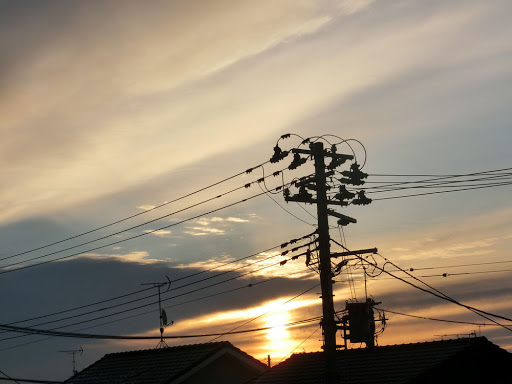utility_pole: (264, 122, 377, 238)
